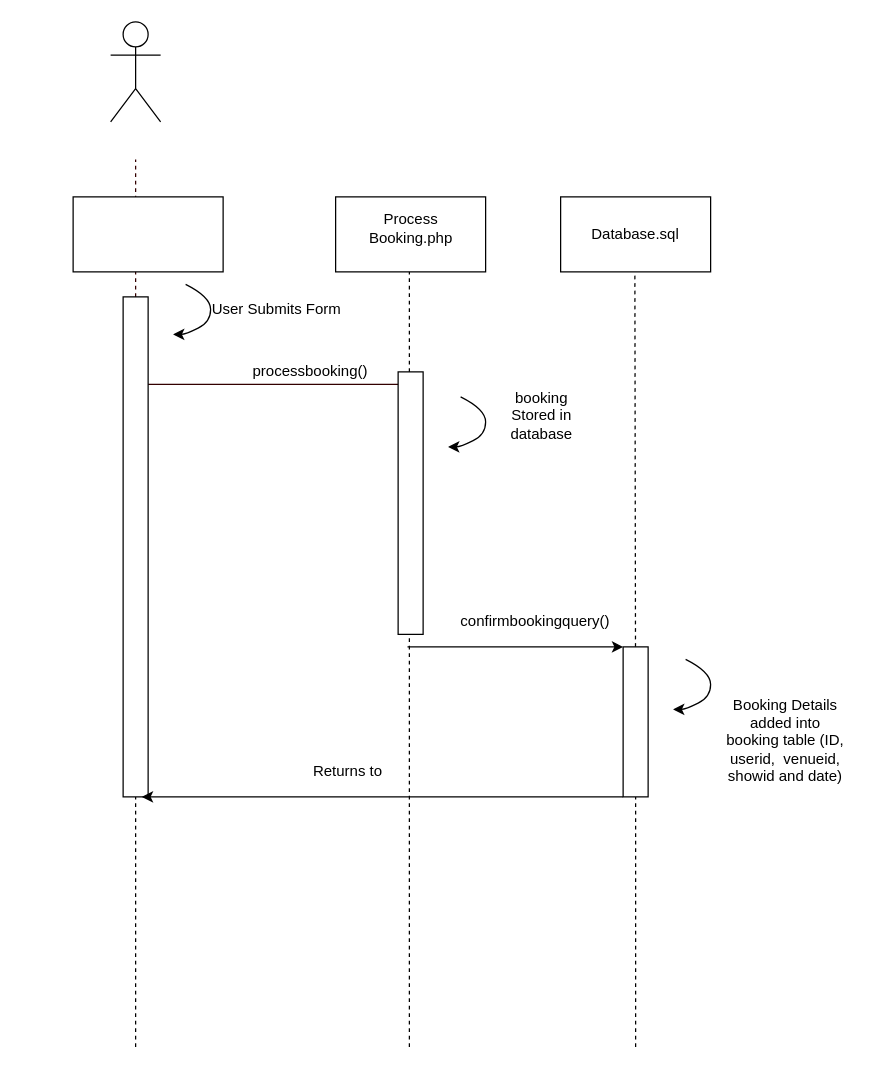
Image size: 870x1070. Some labels were removed from this diagram. The centre of each missing label's shape, as x and y in pixels:
"Booking System" belongs at [147,234].
"Registered Member Of the publixc" belongs at [135,71].
